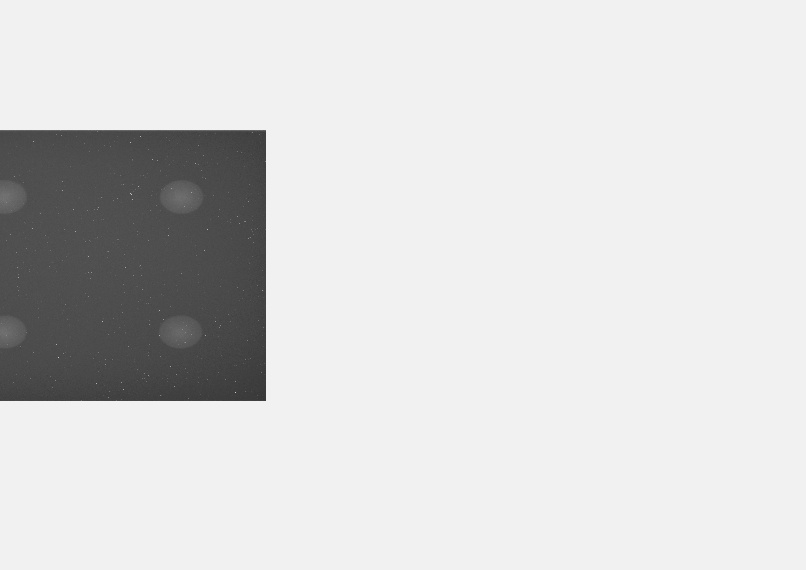bubble: (158, 179, 204, 215), (158, 314, 202, 348), (1, 180, 27, 215), (1, 314, 28, 347)
